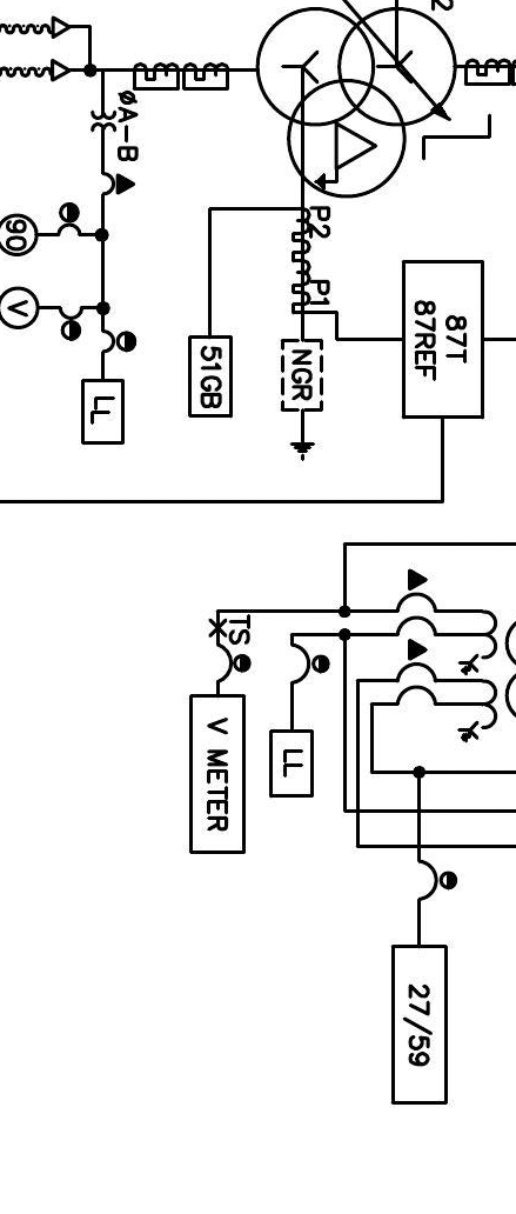11522_tx_ynyn0d1: (254, 6, 458, 200)
LL: (267, 729, 315, 799), (81, 377, 125, 445)
NGR_future: (280, 338, 324, 462)
terminator_double: (50, 15, 93, 83)
v_m_digital: (188, 693, 247, 855)
